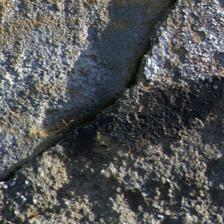Crack: (8, 4, 177, 180)
